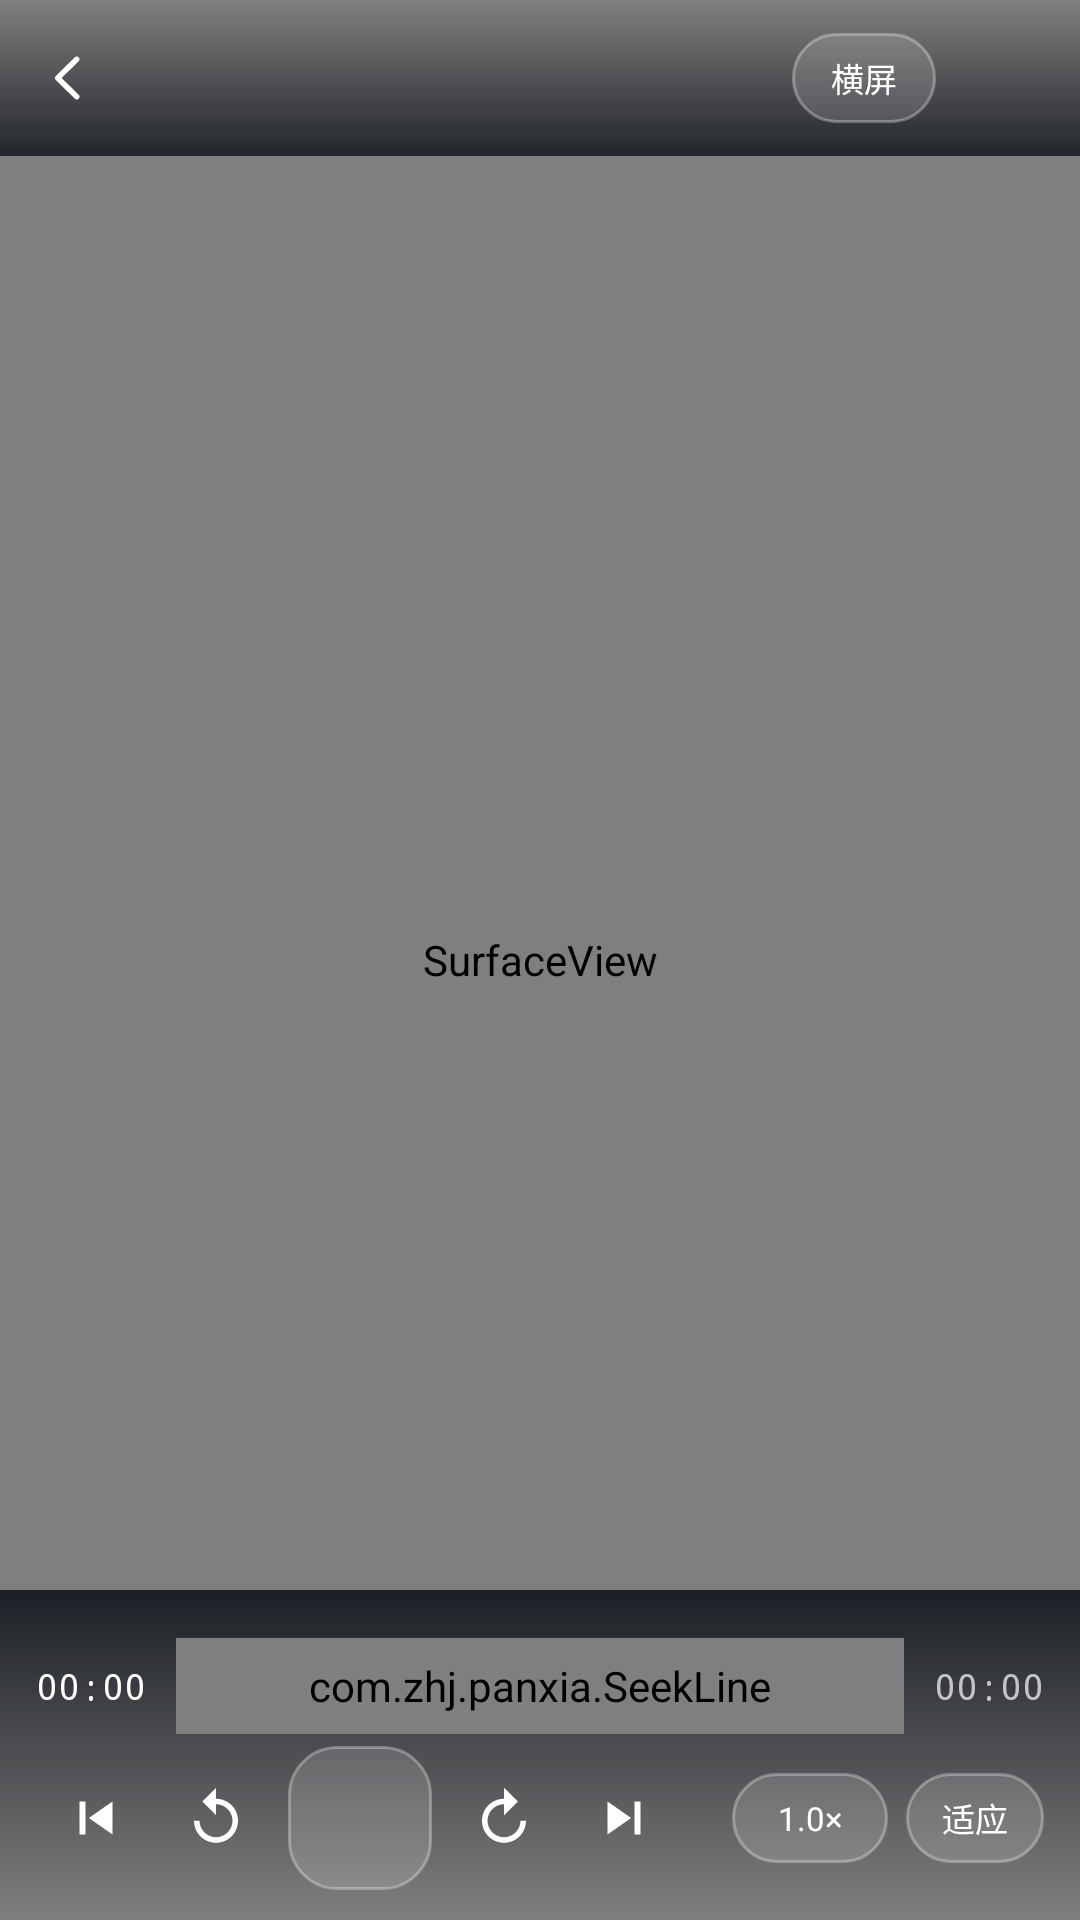

Where to tap for icons on this 1080px x 1920px app screen, as [x,y]:
上一个: [96,1818]
下一个: [624,1818]
前进十秒: [504,1818]
后退十秒: [216,1818]
返回: [69,78]
